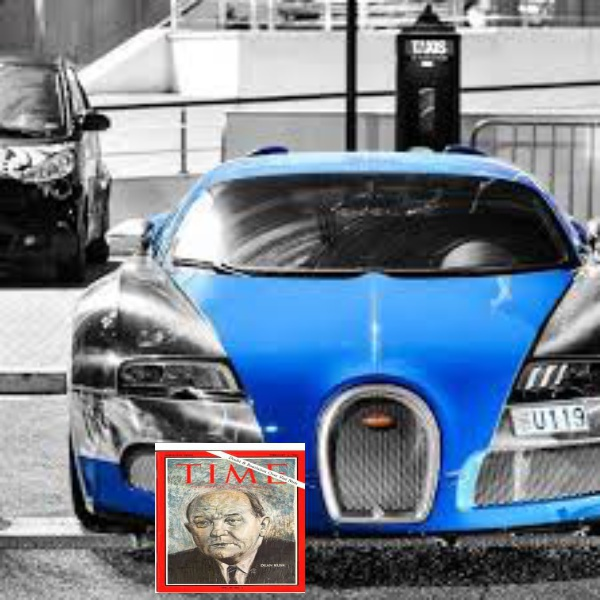time_cover: (146, 435, 305, 581)
